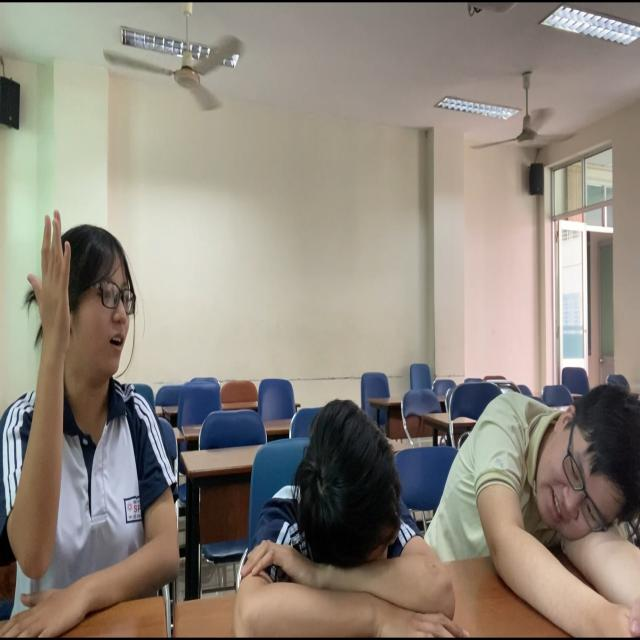raise_hand: (1, 209, 182, 640)
sleep: (244, 396, 459, 640), (472, 371, 640, 640)
